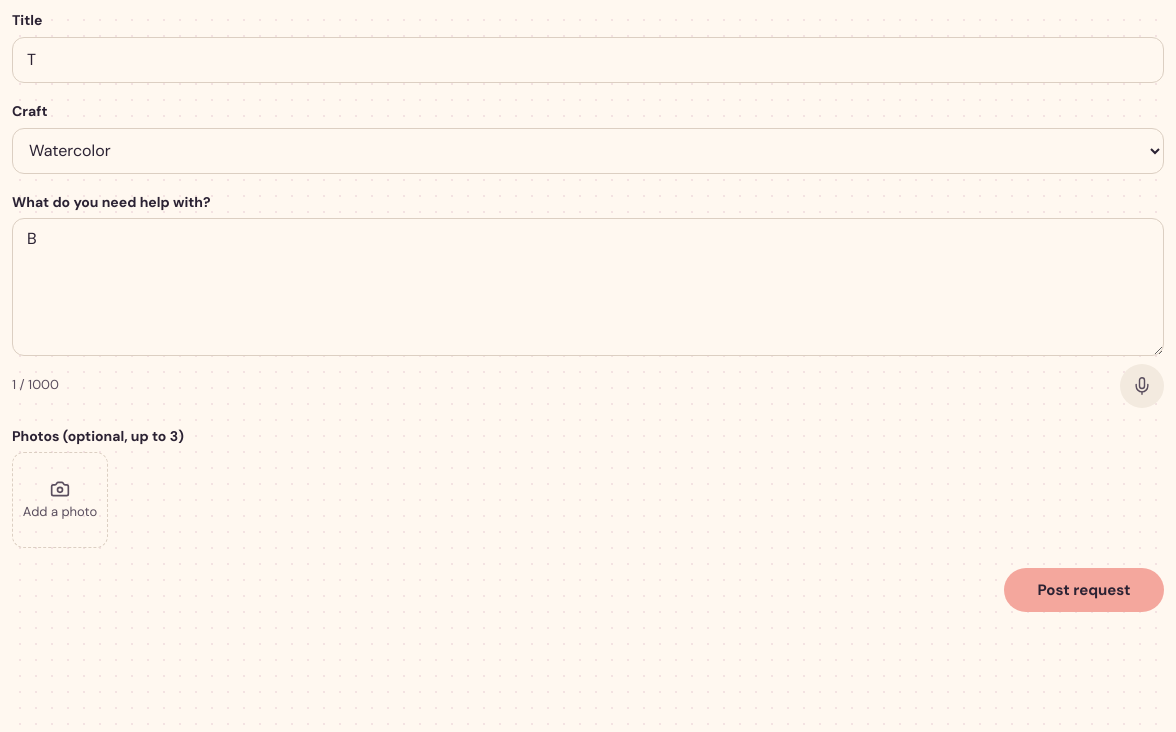
Test: AskHelpForm › shows the server's message when posting fails, and is disabled until verified
Click the button "Post request" at (1084, 590), box [1004, 568, 1164, 612]
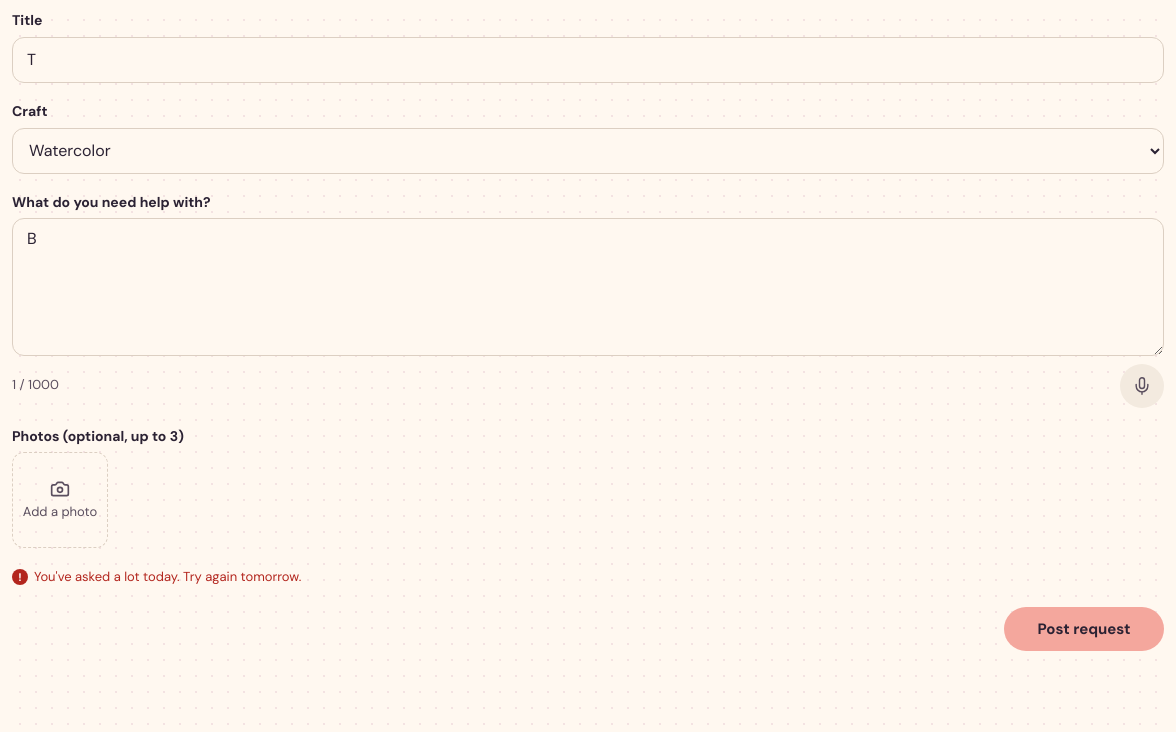
Expected: the text "You've asked a lot today. Try again tomorrow." is shown, [34, 568, 301, 585]
